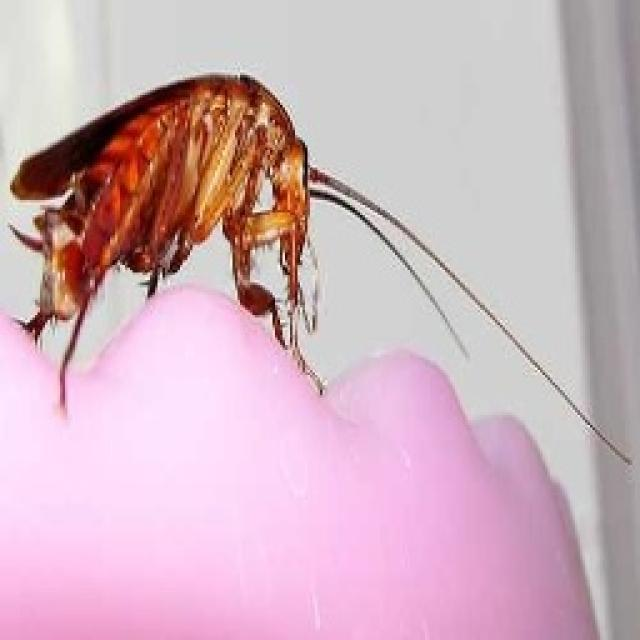cockroach: (0, 50, 368, 411)
